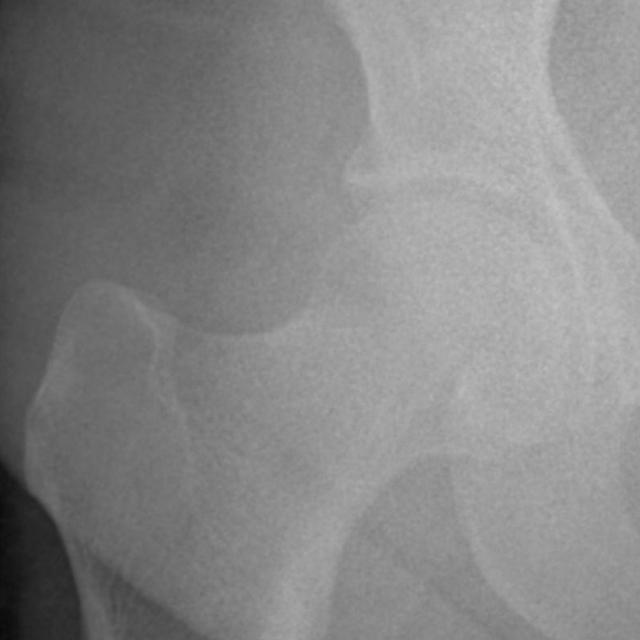Fitted_femural_head: (278, 201, 432, 278)
